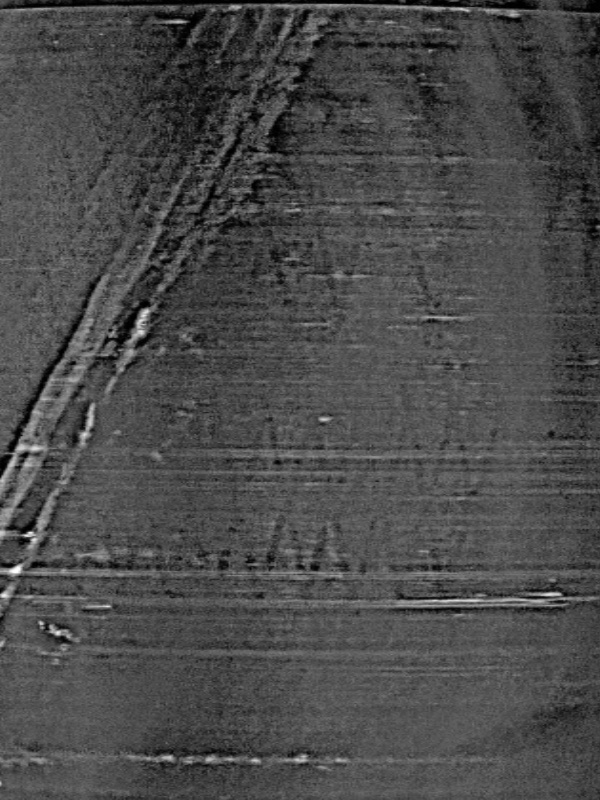splice_vulcanized: (2, 2, 333, 633)
